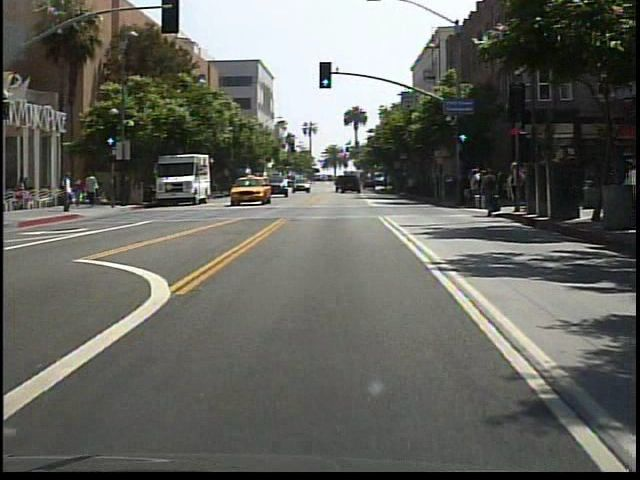person: (477, 164, 500, 220), (61, 169, 77, 215), (15, 174, 32, 213), (86, 168, 102, 207), (74, 174, 86, 207)
